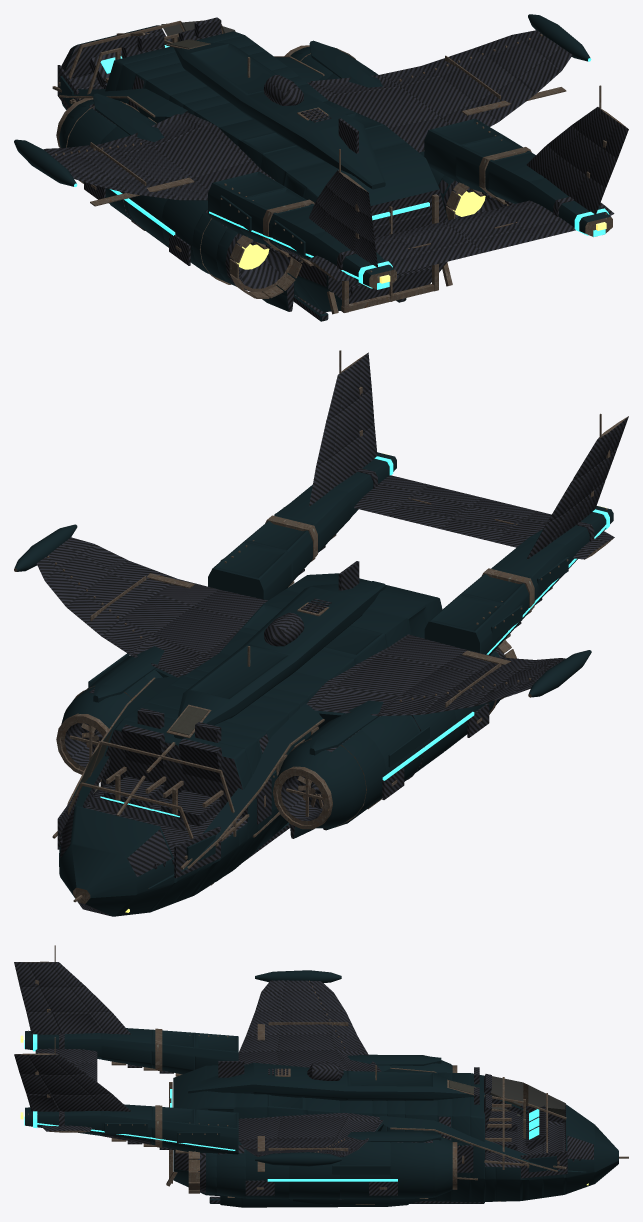
The picture shows the model from 3 angles, top to bottom: view 1: azimuth 30°, elevation 25°; view 2: azimuth 150°, elevation 25°; view 3: azimuth 270°, elevation 25°; orthographic projection. The views are drawn at different scales.
Parts seen in each view (by area): view 1: kb7_core, kb7_wing_r, kb7_tail_r, kb7_tail_l, kb7_wing_l; view 2: kb7_core, kb7_wing_r, kb7_tail_r, kb7_tail_l, kb7_wing_l; view 3: kb7_core, kb7_wing_l, kb7_tail_l, kb7_tail_r, kb7_wing_r.
Part boxes in pixels (box(x1,y1,x2,y2)): kb7_core: box(52, 17, 612, 321); kb7_wing_r: box(380, 14, 591, 126); kb7_tail_r: box(441, 85, 628, 252); kb7_tail_l: box(308, 149, 483, 281); kb7_wing_l: box(14, 135, 208, 206); kb7_core: box(52, 452, 613, 916); kb7_wing_r: box(14, 524, 218, 655); kb7_tail_r: box(309, 350, 483, 529); kb7_tail_l: box(441, 413, 628, 559); kb7_wing_l: box(378, 650, 591, 716); kb7_core: box(20, 1028, 628, 1207); kb7_wing_l: box(239, 970, 367, 1053); kb7_tail_l: box(14, 945, 130, 1081); kb7_tail_r: box(14, 1037, 130, 1132); kb7_wing_r: box(239, 1136, 367, 1171).
Bounding box in the file's own units: 6.14 × 3.01 × 8.49.
Materials: 6 (2 with a texture image).
